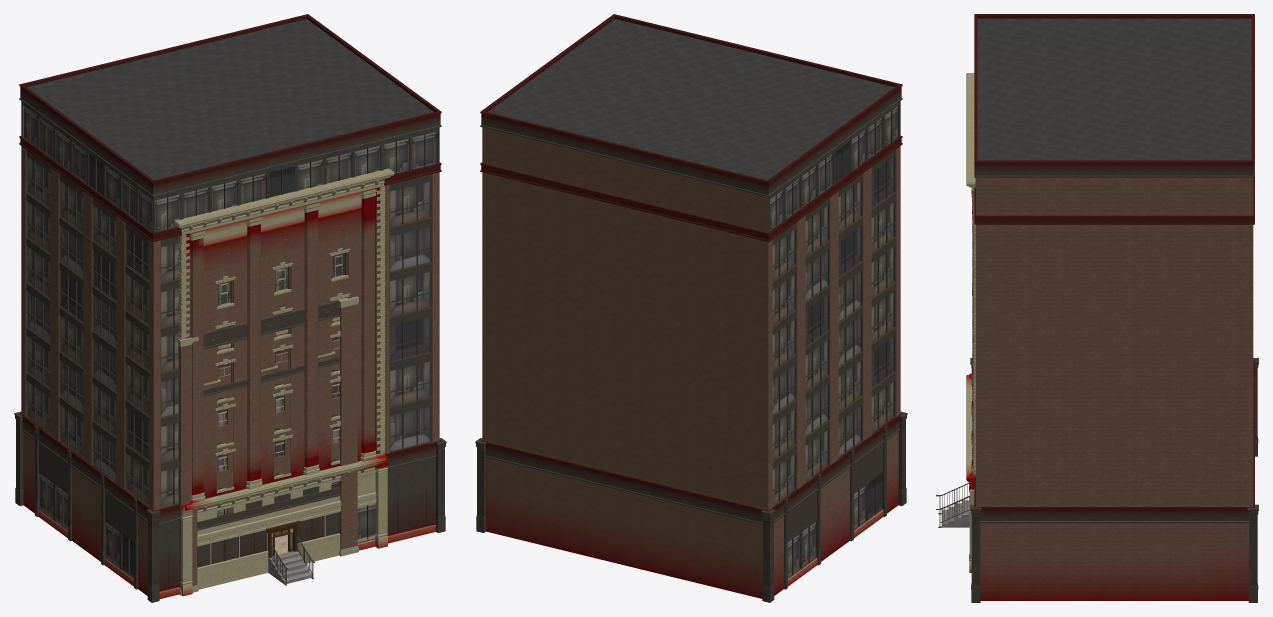
File: city.glb
3 renders of one model, left to right at view 1: azimuth 30°, elevation 25°; view 2: azimuth 150°, elevation 25°; view 3: azimuth 270°, elevation 25°, orthographic. The views are drawn at different scales.
Visible parts, largest first — view 1: Building_Large_2_m, Building_Medium_2.001_m, Building_Small_1_m; view 2: Building_Large_2_m; view 3: Building_Large_2_m, Building_Medium_2.001_m, Building_Small_1_m.
Boxes of the visible parts, x1,y1,x2,y2 form: Building_Large_2_m: (14, 14, 446, 602); Building_Medium_2.001_m: (174, 168, 394, 596); Building_Small_1_m: (177, 296, 358, 595); Building_Large_2_m: (475, 14, 907, 602); Building_Large_2_m: (970, 14, 1258, 602); Building_Medium_2.001_m: (966, 73, 975, 572); Building_Small_1_m: (936, 200, 972, 527).
Bounding box in the file's own units: 20.64 × 28.01 × 18.63.
12 materials, 11 textured.
